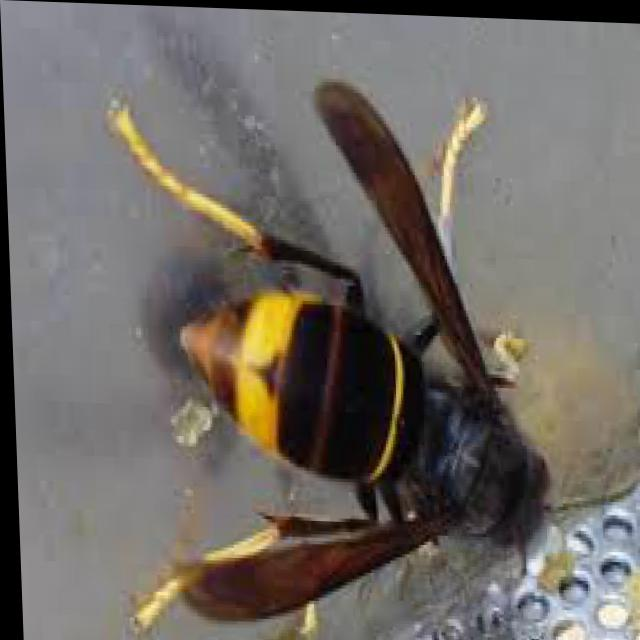Vespa Velutina: (89, 59, 555, 639)
